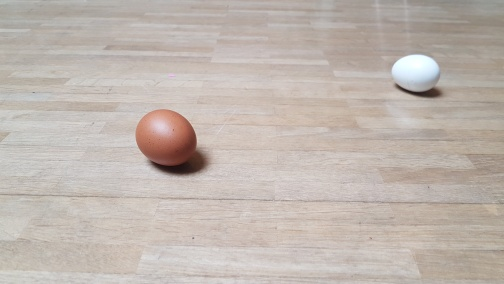egg: (133, 108, 199, 167), (390, 52, 442, 94)
